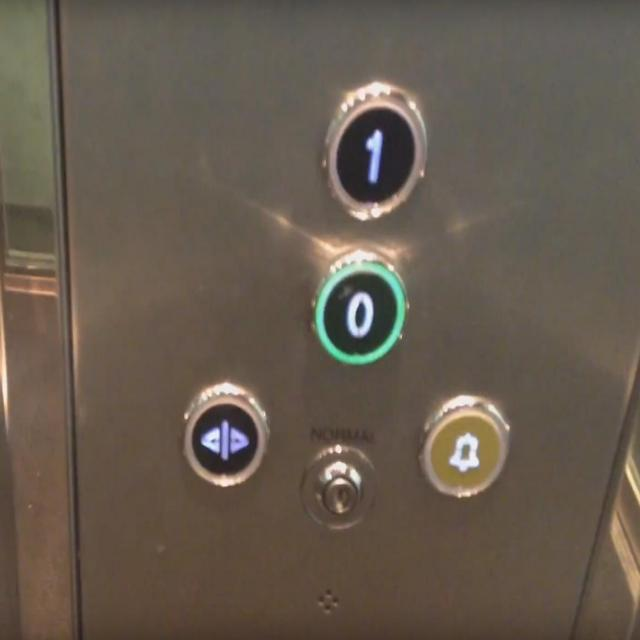0: (310, 250, 408, 366)
1: (323, 81, 427, 221)
alarm: (418, 395, 510, 499)
blur: (300, 446, 375, 528)
open: (181, 382, 268, 488)
